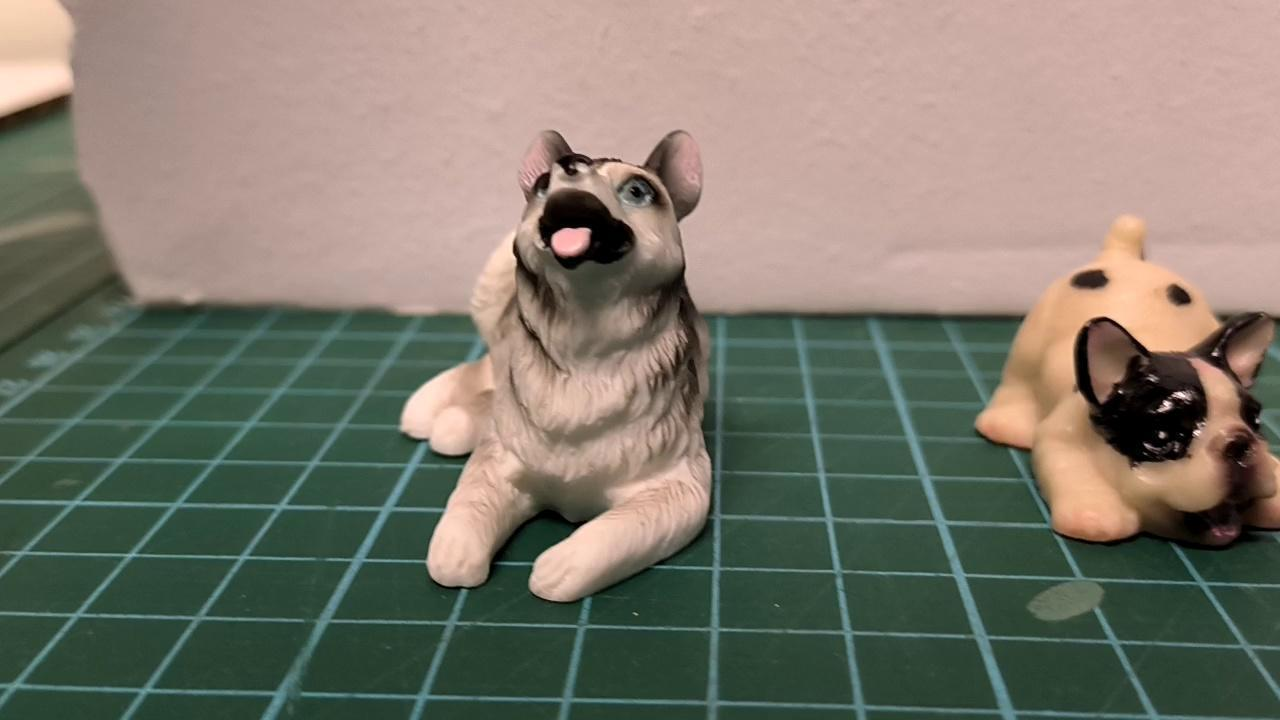pet: (398, 127, 720, 604), (973, 213, 1280, 551)
